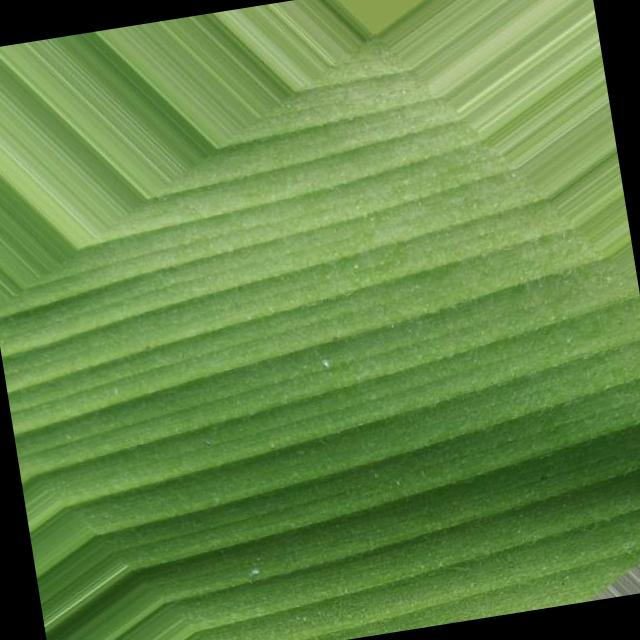Banana_Healthy: (145, 152, 640, 597)
